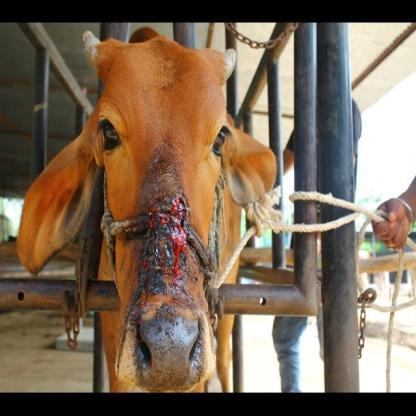cow: (6, 19, 282, 416)
injured: (128, 196, 212, 353)
